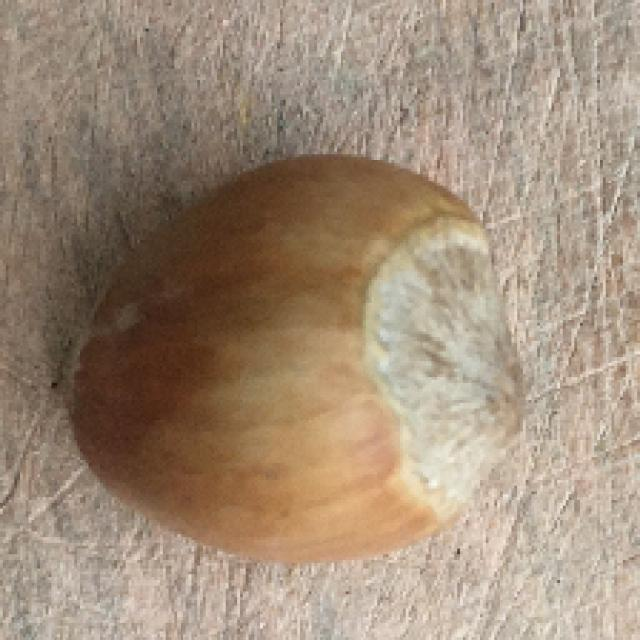qualityHazelnut: (62, 156, 528, 572)
